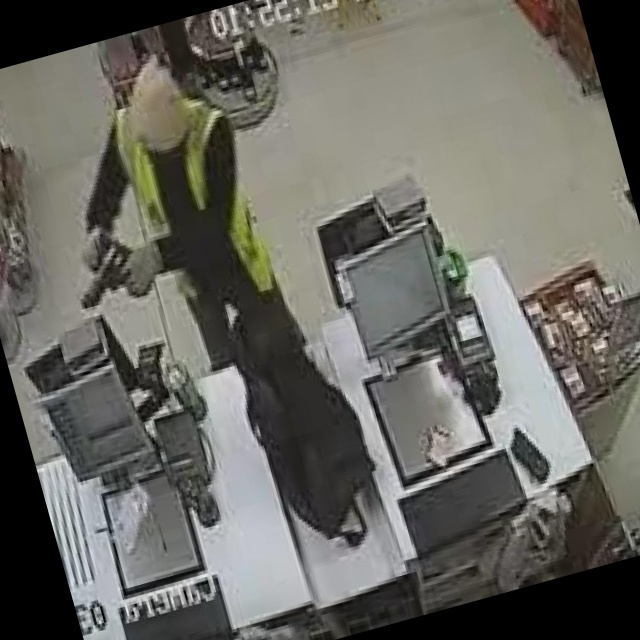gun: (62, 226, 149, 313)
